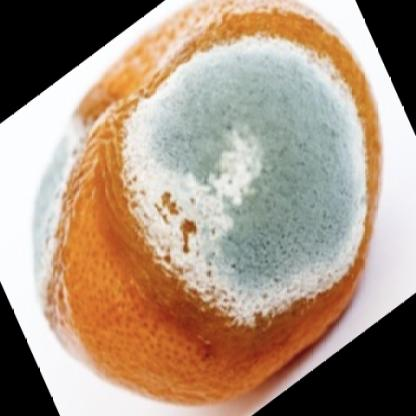rotten: (33, 4, 383, 407)
